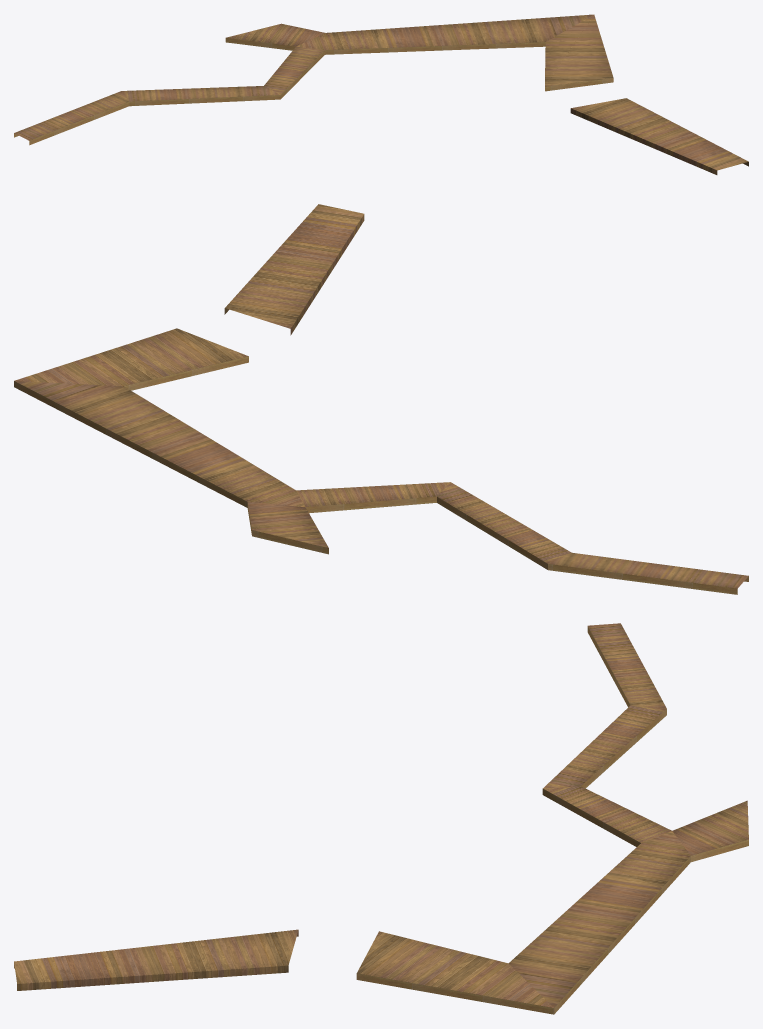
Rendered from SM_WoodPath_01.fbx.
3 renders of one model, top to bottom at view 1: azimuth 30°, elevation 25°; view 2: azimuth 150°, elevation 25°; view 3: azimuth 270°, elevation 25°, orthographic. The views are drawn at different scales.
Visible parts, largest first — view 1: SM_WoodPath_01; view 2: SM_WoodPath_01; view 3: SM_WoodPath_01.
Boxes of the visible parts, x1,y1,x2,y2 form: SM_WoodPath_01: (14,14,748,174); SM_WoodPath_01: (14,204,748,594); SM_WoodPath_01: (14,623,748,1014).
Bounding box in the file's own units: 59.8 × 0.5138 × 48.27.
